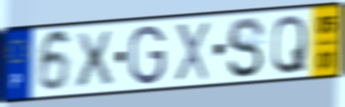6: (34, 27, 75, 97)
G: (127, 23, 167, 87)
Q: (270, 12, 308, 77)
S: (225, 15, 267, 81)
X: (73, 28, 117, 91), (173, 19, 211, 84)
